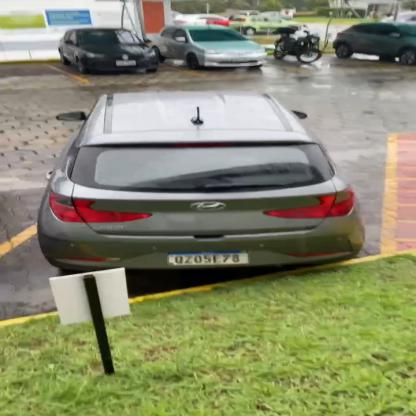Plate: (163, 245, 256, 270)
